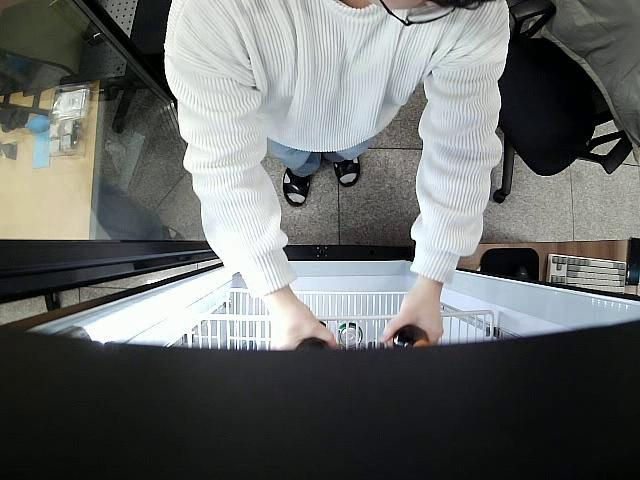17_vita500: (392, 324, 430, 348), (298, 334, 328, 352)
